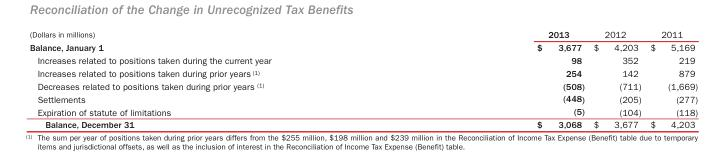table: (28, 28, 697, 129)
table column: (28, 28, 403, 129), (403, 28, 588, 129), (588, 28, 644, 129), (644, 28, 697, 129)
table column header: (28, 28, 697, 40)
table row: (28, 40, 697, 53), (28, 53, 697, 66), (28, 66, 697, 79), (28, 79, 697, 92), (28, 104, 697, 117), (28, 28, 697, 40), (28, 92, 697, 104), (28, 117, 697, 129)
